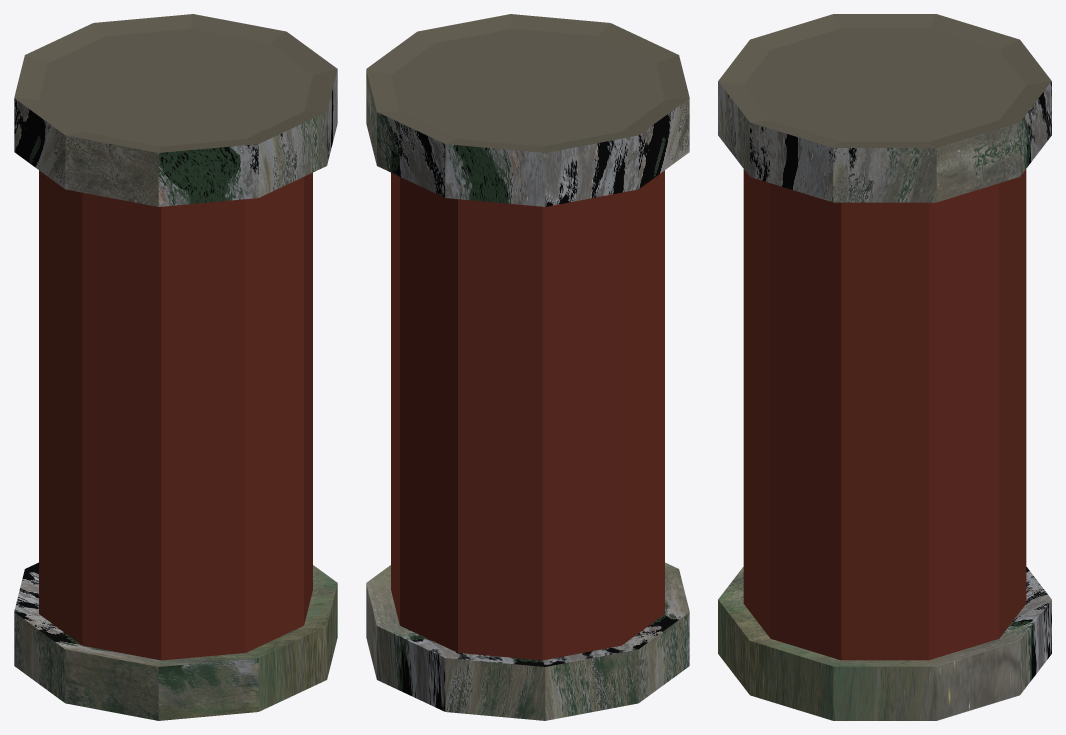
The model's file is wholeTesttube.fbx.
3 views of the same model, side by side, from view 1: azimuth 30°, elevation 25°; view 2: azimuth 150°, elevation 25°; view 3: azimuth 270°, elevation 25° (orthographic).
Parts seen in each view (by area): view 1: wholeTestTube; view 2: wholeTestTube; view 3: wholeTestTube.
Boxes of the visible parts, x1,y1,x2,y2 form: wholeTestTube: (14, 14, 337, 720); wholeTestTube: (366, 14, 689, 720); wholeTestTube: (718, 14, 1051, 720).
Size of the model in its own units: 1040 by 2072 by 1094.
